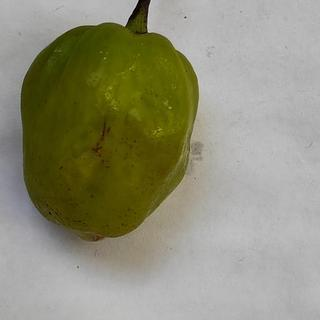Fly-bites: (90, 144, 106, 155)
striped: (100, 116, 108, 140)
